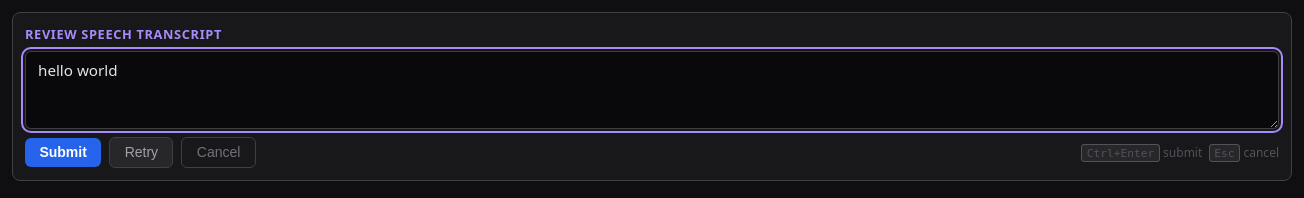
Test: VoiceInput — audio upload flow › dismisses the review panel and returns to normal input when retry is clicked
Click the button with aria-label "retry recording" at [141, 152], box [109,137,173,168]
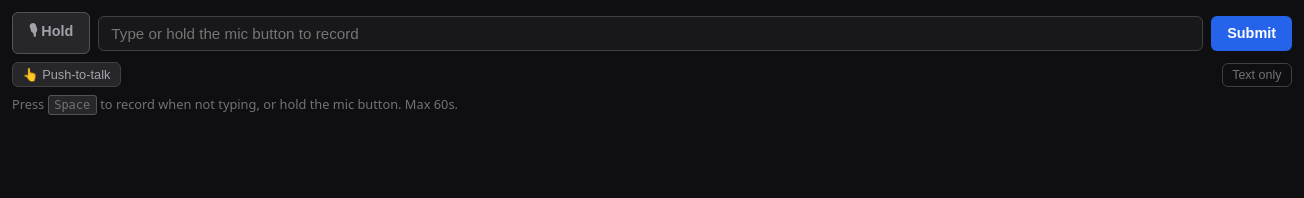
Result: the element with test id "transcript-review-panel" is gone
Result: the field named "your response" is shown at [98,16,1203,50]
